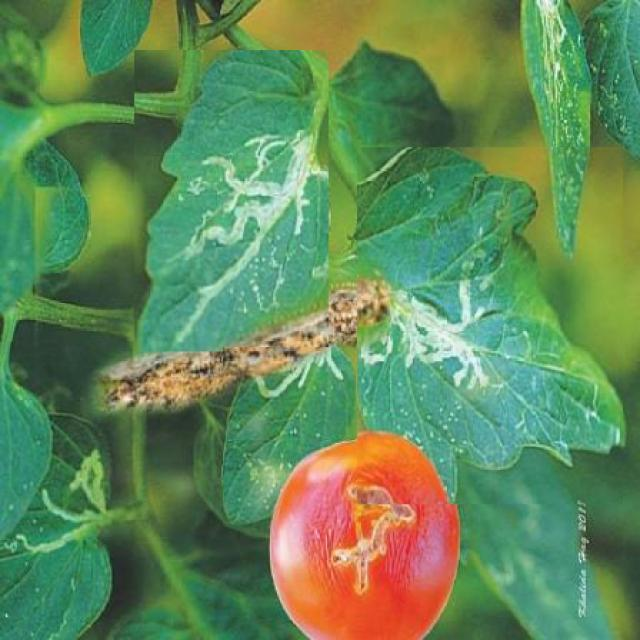Leaf Miner: (357, 148, 623, 505), (135, 50, 328, 351), (223, 347, 356, 529)
